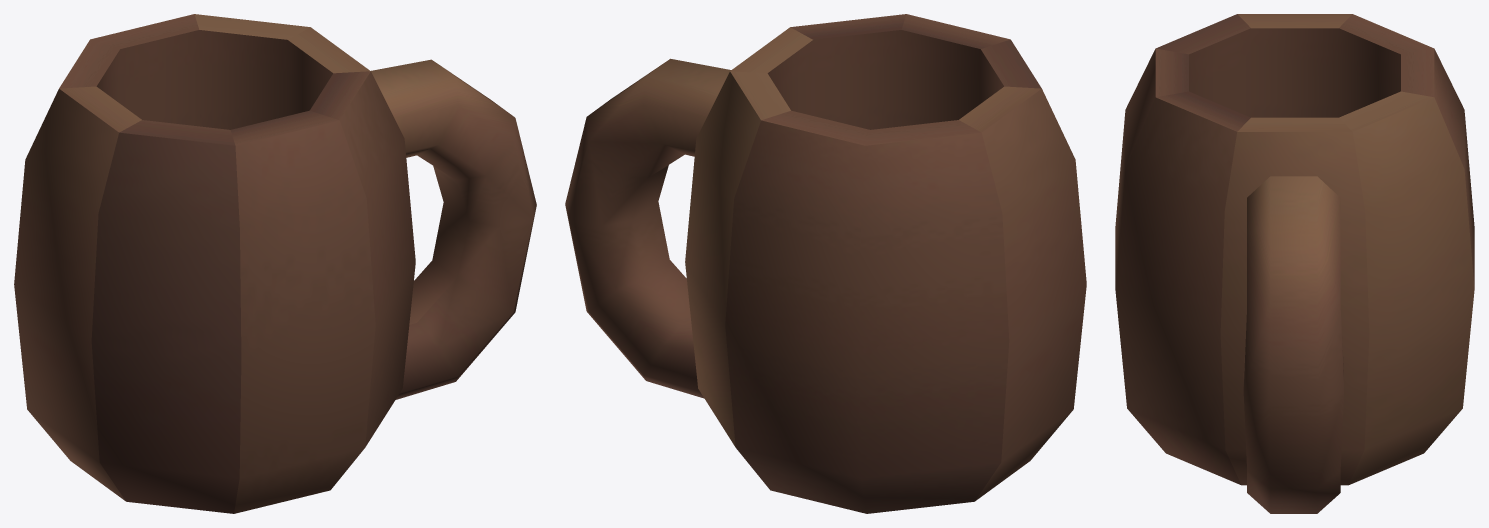
Rendered from mug_wood.fbx.
3 views of the same model, side by side, from view 1: azimuth 30°, elevation 25°; view 2: azimuth 150°, elevation 25°; view 3: azimuth 270°, elevation 25° (orthographic). The views are drawn at different scales.
Visible parts, largest first — view 1: mug_wood; view 2: mug_wood; view 3: mug_wood.
Part boxes in pixels (bbox=[...]): mug_wood: bbox=[14, 14, 536, 513]; mug_wood: bbox=[565, 14, 1086, 513]; mug_wood: bbox=[1115, 14, 1474, 513].
Bounding box in the file's own units: 41.73 × 31.62 × 28.76.
